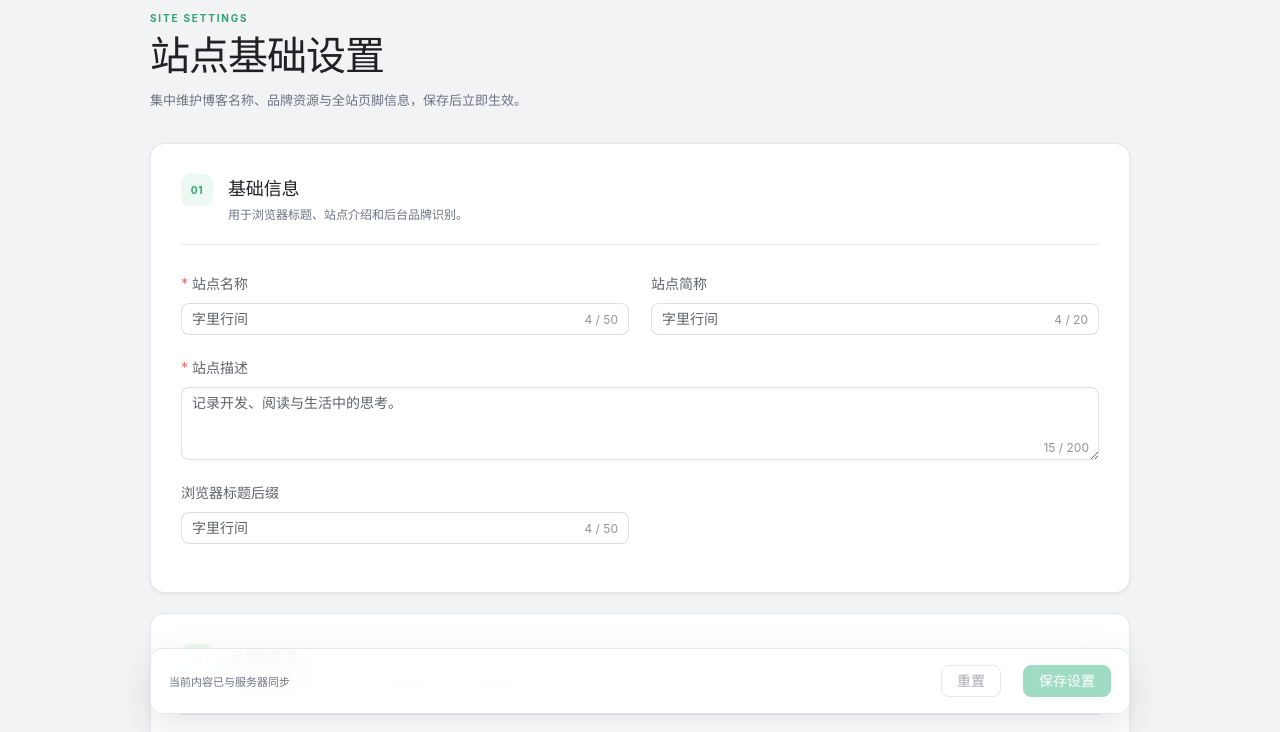
Test case: SiteSettingsView › loads the three settings groups and resets unsaved changes
Replace the text in the field with placeholder "例如：字里行间" with "尚未保存的名称" at (380, 319), box x1=192 y1=304 x2=568 y2=334
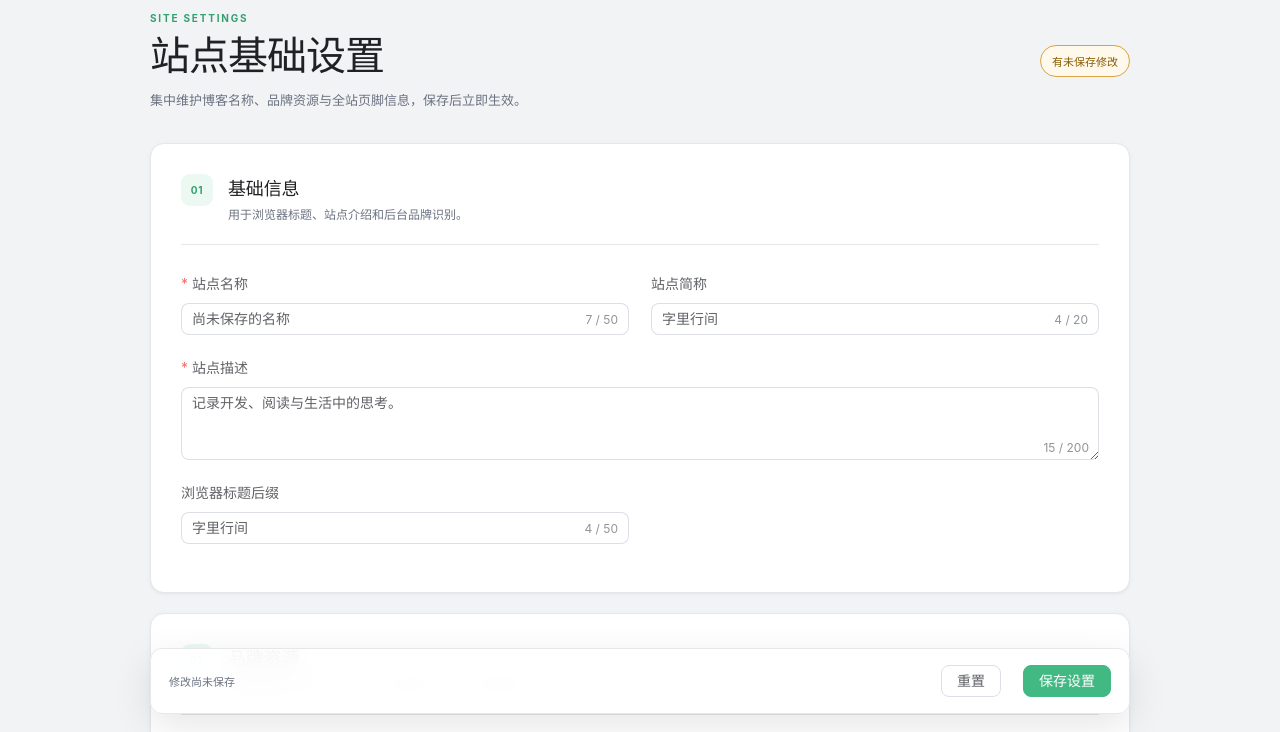
Now the text "有未保存修改" is shown, box x1=1040 y1=44 x2=1130 y2=76
Click the button "重置" at (971, 681), box x1=941 y1=665 x2=1001 y2=697
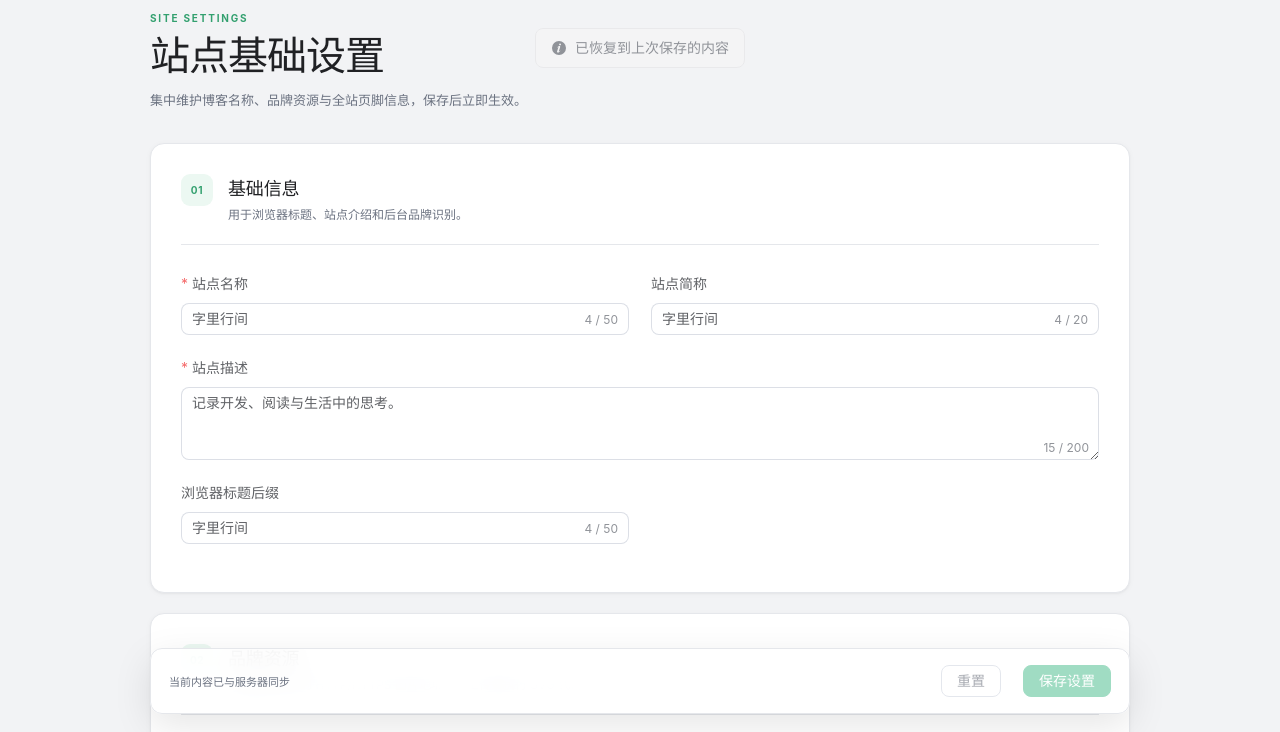
Now the field with placeholder "例如：字里行间" holds "字里行间", box x1=192 y1=304 x2=568 y2=334
